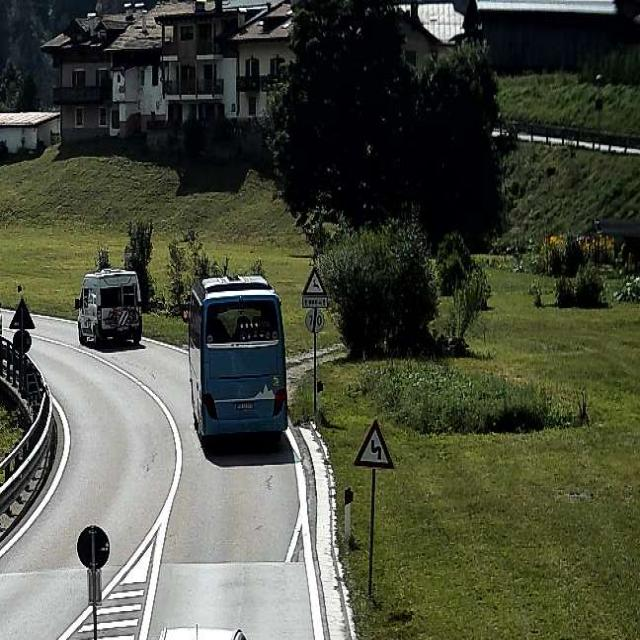bus: (186, 274, 288, 444)
car: (75, 264, 142, 348), (131, 623, 269, 640), (0, 285, 2, 333)
